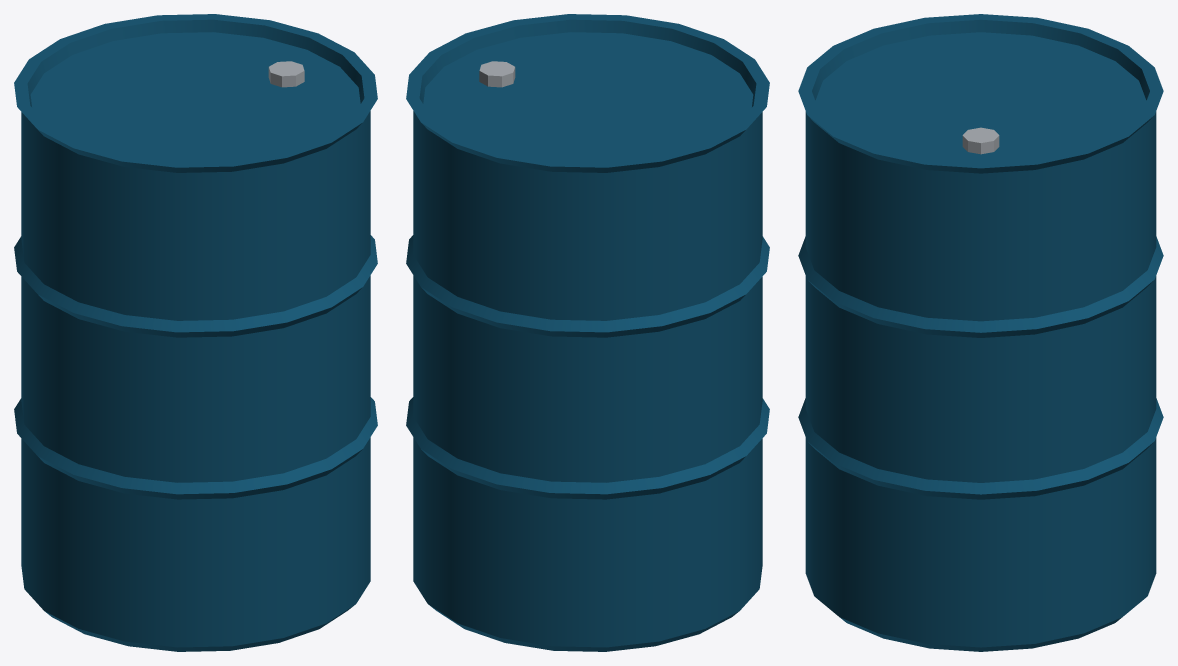
Rendered from plant.store.barrel.glb.
3 renders of one model, left to right at view 1: azimuth 30°, elevation 25°; view 2: azimuth 150°, elevation 25°; view 3: azimuth 270°, elevation 25°, orthographic.
Visible parts, largest first — view 1: main__container_blue, main__steel_galvanised; view 2: main__container_blue, main__steel_galvanised; view 3: main__container_blue, main__steel_galvanised.
Boxes of the visible parts, x1,y1,x2,y2 form: main__container_blue: (14, 14, 377, 651); main__steel_galvanised: (268, 61, 304, 87); main__container_blue: (406, 14, 769, 651); main__steel_galvanised: (479, 61, 515, 87); main__container_blue: (798, 14, 1163, 651); main__steel_galvanised: (962, 127, 999, 154).
Bounding box in the file's own units: 0.594 × 0.88 × 0.594.
